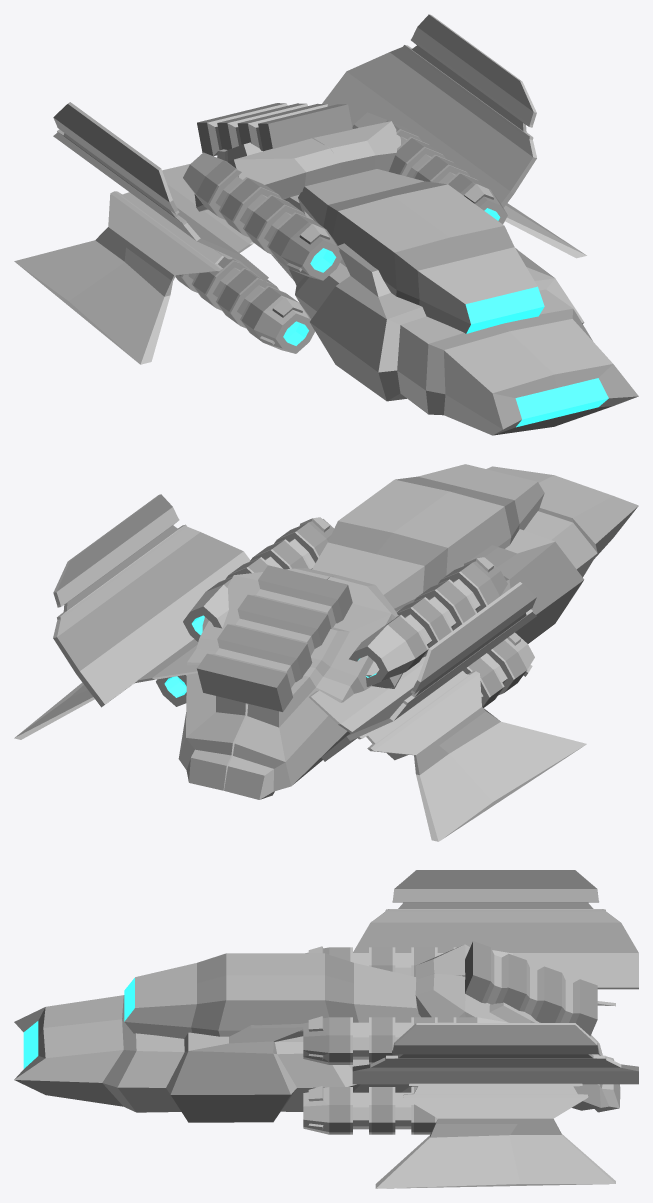
The model's file is spaceship 3 white.fbx.
3 views of the same model, one above another, from view 1: azimuth 30°, elevation 25°; view 2: azimuth 150°, elevation 25°; view 3: azimuth 270°, elevation 25° (orthographic). The views are drawn at different scales.
Visible parts, largest first — view 1: Cube.018; view 2: Cube.018; view 3: Cube.018.
Boxes of the visible parts, x1=… form: Cube.018: x1=14, y1=14, x2=638, y2=435; Cube.018: x1=14, y1=464, x2=638, y2=841; Cube.018: x1=14, y1=870, x2=638, y2=1188.
Bounding box in the file's own units: 691 × 255 × 958.
